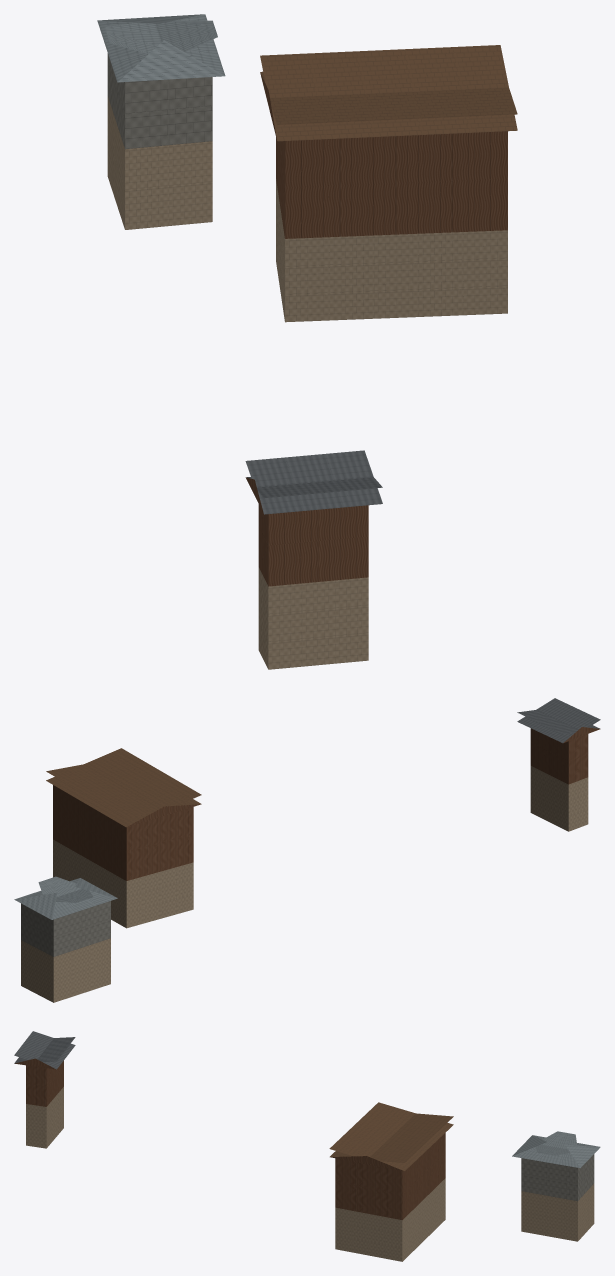
File: bld_c11_29_393.gltf
3 views of the same model, one above another, from view 1: azimuth 30°, elevation 25°; view 2: azimuth 150°, elevation 25°; view 3: azimuth 270°, elevation 25° (orthographic). The views are drawn at different scales.
Visible parts, largest first — view 1: bld_c11_29_393; view 2: bld_c11_29_393; view 3: bld_c11_29_393.
Part boxes in pixels (x1,y1,x2,y2): bld_c11_29_393: [97, 14, 517, 669]; bld_c11_29_393: [14, 698, 600, 1002]; bld_c11_29_393: [14, 1031, 600, 1261].
Bounding box in the file's own units: 38.98 × 13.5 × 65.14.
Materials: 7 (7 with a texture image).
